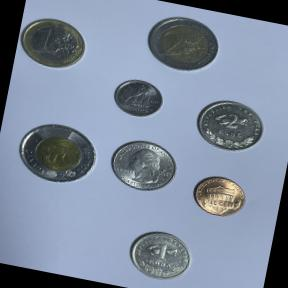coin: (8, 114, 108, 196), (136, 9, 229, 80), (188, 91, 272, 160), (101, 131, 185, 200), (13, 10, 95, 78), (184, 166, 254, 226), (106, 72, 170, 125)
